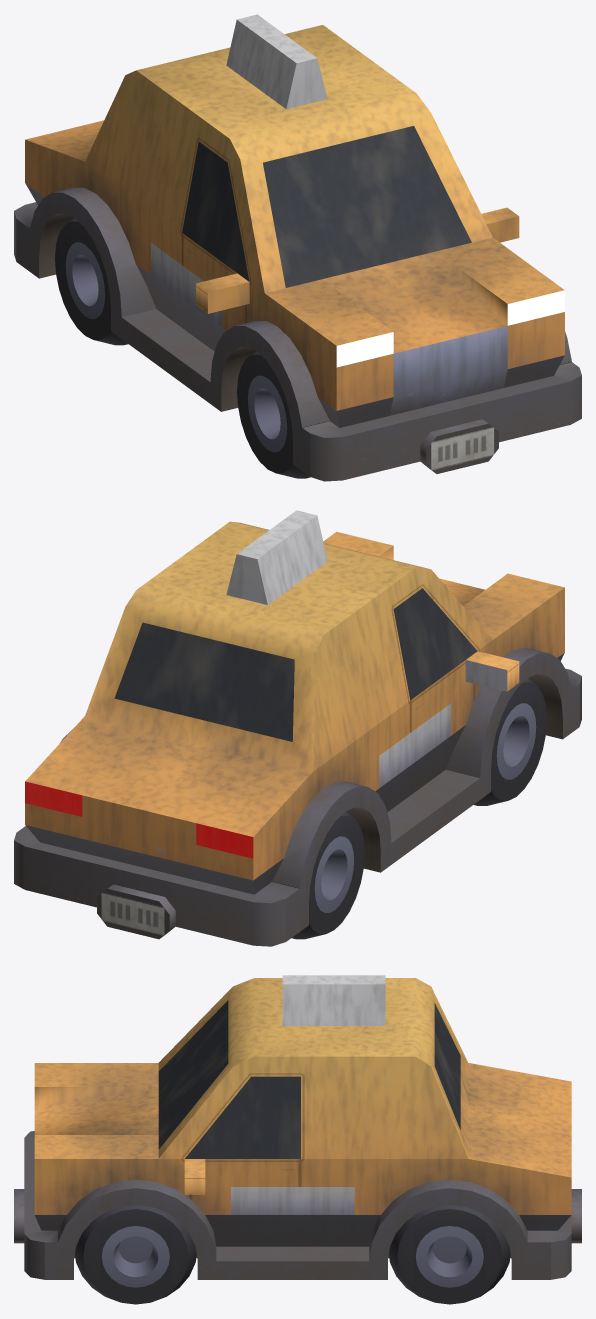
File: taxi-L3.glb
The picture shows the model from 3 angles, top to bottom: view 1: azimuth 30°, elevation 25°; view 2: azimuth 150°, elevation 25°; view 3: azimuth 270°, elevation 25°; orthographic projection. The views are drawn at different scales.
Visible parts, largest first — view 1: body, wheel-front-right, wheel-back-right; view 2: body, wheel-back-right, wheel-front-right; view 3: body, wheel-front-left, wheel-back-left.
Boxes of the visible parts, x1,y1,x2,y2 form: body: (14,14,581,481); wheel-front-right: (237,350,310,478); wheel-back-right: (55,217,128,345); body: (14,510,581,946); wheel-back-right: (291,811,364,939); wheel-front-right: (473,678,546,805); body: (14,975,581,1279); wheel-front-left: (75,1205,196,1304); wheel-back-left: (388,1205,510,1304).
Size of the model in its own units: 1.5 by 1.5 by 2.75.
5 materials, 5 textured.
